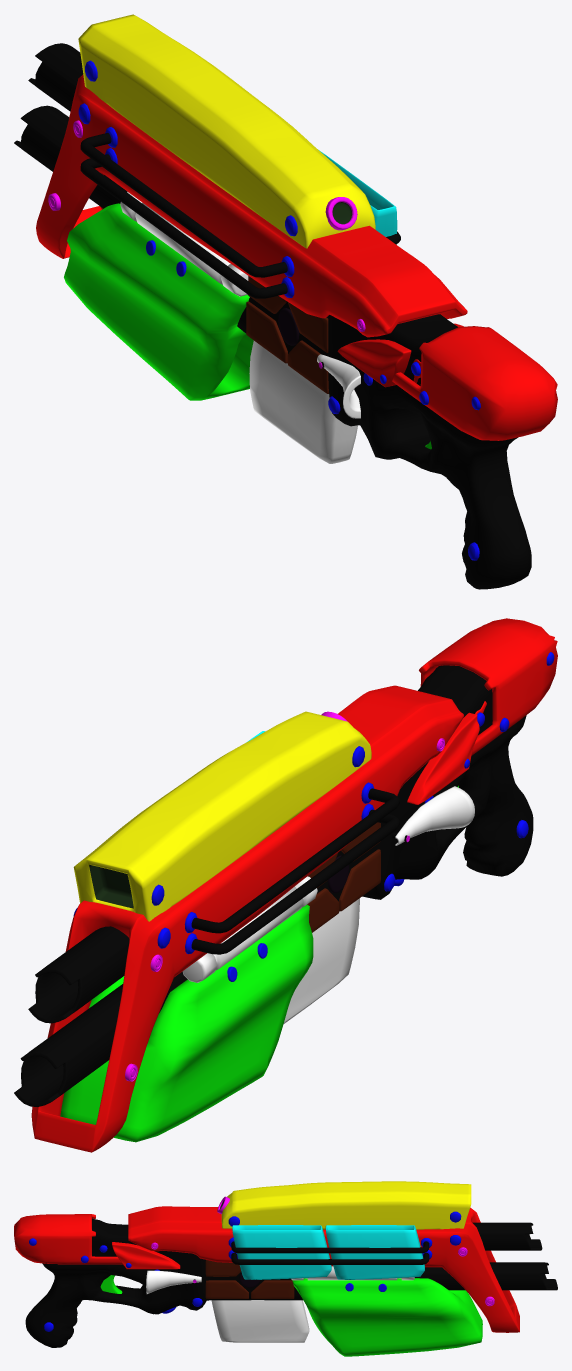
The model's file is Shotgun_Low_Poly.fbx.
The picture shows the model from 3 angles, top to bottom: view 1: azimuth 30°, elevation 25°; view 2: azimuth 150°, elevation 25°; view 3: azimuth 270°, elevation 25°; orthographic projection. The views are drawn at different scales.
Parts seen in each view (by area): view 1: Shotgun_Base_Low, Shotgun_Reload_Low, Shotgun_Ammo_Low, Shotgun_Fins_Low; view 2: Shotgun_Base_Low, Shotgun_Reload_Low, Shotgun_Ammo_Low, Shotgun_Fins_Low; view 3: Shotgun_Base_Low, Shotgun_Reload_Low, Shotgun_Ammo_Low, Shotgun_Fins_Low.
Boxes of the visible parts, x1,y1,x2,y2 form: Shotgun_Base_Low: (14,14,557,589); Shotgun_Reload_Low: (64,203,253,400); Shotgun_Ammo_Low: (249,340,357,463); Shotgun_Fins_Low: (317,354,360,418); Shotgun_Base_Low: (14,618,557,1152); Shotgun_Reload_Low: (60,904,313,1142); Shotgun_Ammo_Low: (283,898,359,1023); Shotgun_Fins_Low: (395,786,474,845); Shotgun_Base_Low: (14,1181,557,1347); Shotgun_Reload_Low: (292,1278,482,1356); Shotgun_Ammo_Low: (211,1300,309,1342); Shotgun_Fins_Low: (146,1270,201,1293).
Size of the model in its own units: 16.75 by 31.3 by 96.38.
